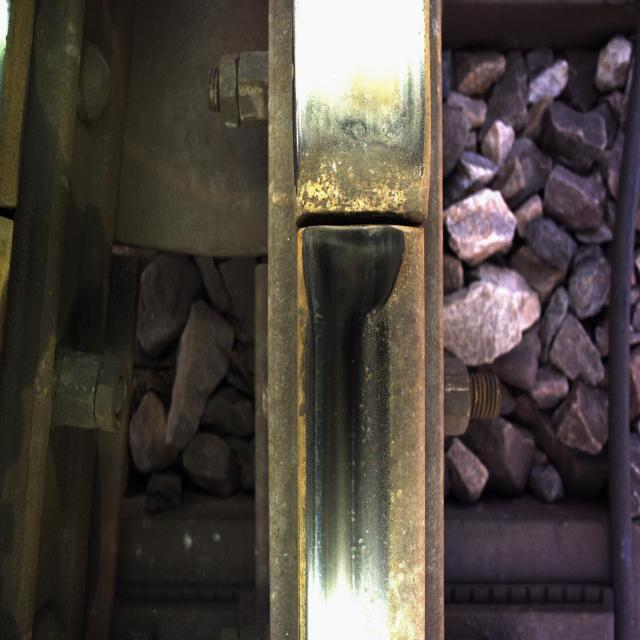spalling: (266, 162, 459, 278)
